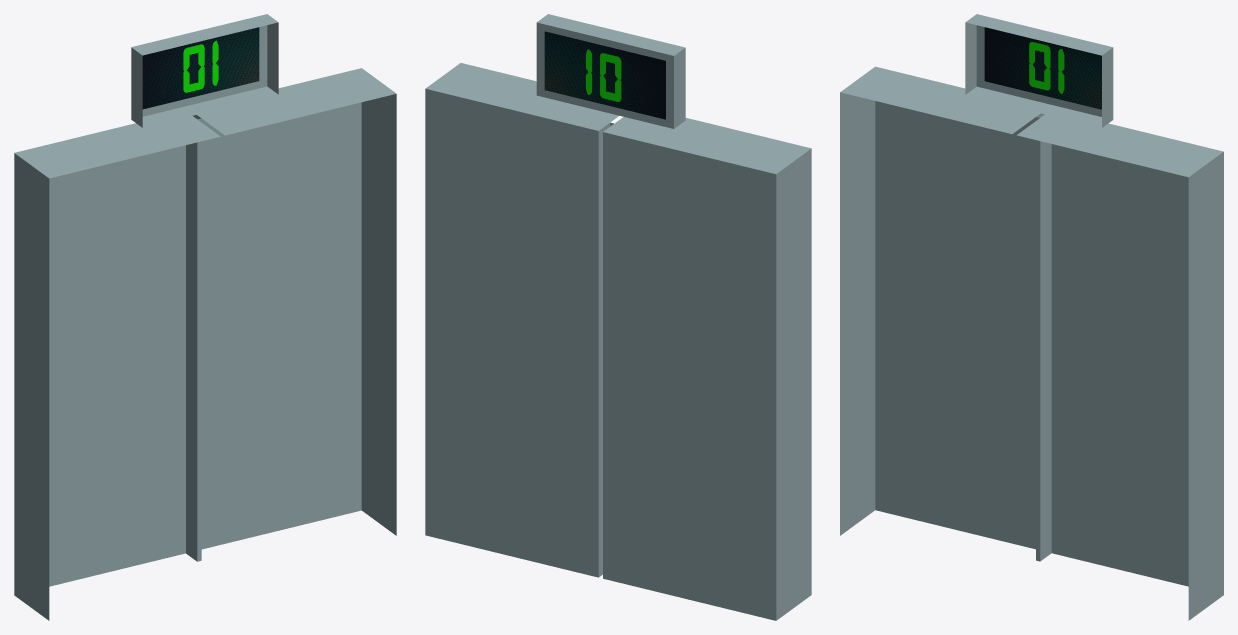
Rendered from IOD_Ascensor_Spy&Run.fbx.
3 views of the same model, side by side, from view 1: azimuth 30°, elevation 25°; view 2: azimuth 150°, elevation 25°; view 3: azimuth 330°, elevation 25° (orthographic).
Visible parts, largest first — view 1: Ascensor, Planta; view 2: Ascensor, Planta; view 3: Ascensor, Planta.
Part boxes in pixels (bbox=[...]): Ascensor: bbox=[14, 68, 396, 620]; Planta: bbox=[131, 14, 278, 127]; Ascensor: bbox=[425, 63, 811, 620]; Planta: bbox=[536, 14, 685, 128]; Ascensor: bbox=[840, 66, 1223, 620]; Planta: bbox=[965, 14, 1113, 128].
Bounding box in the file's own units: 383 × 555 × 66.91.
